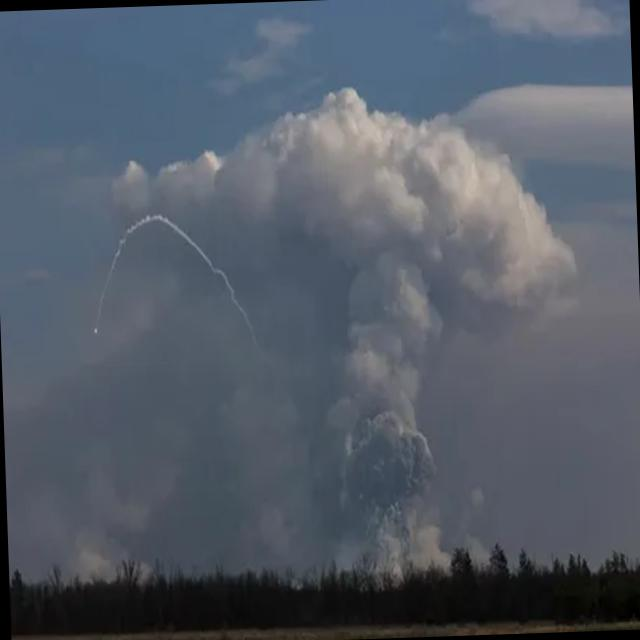Smoke: (110, 82, 588, 566)
